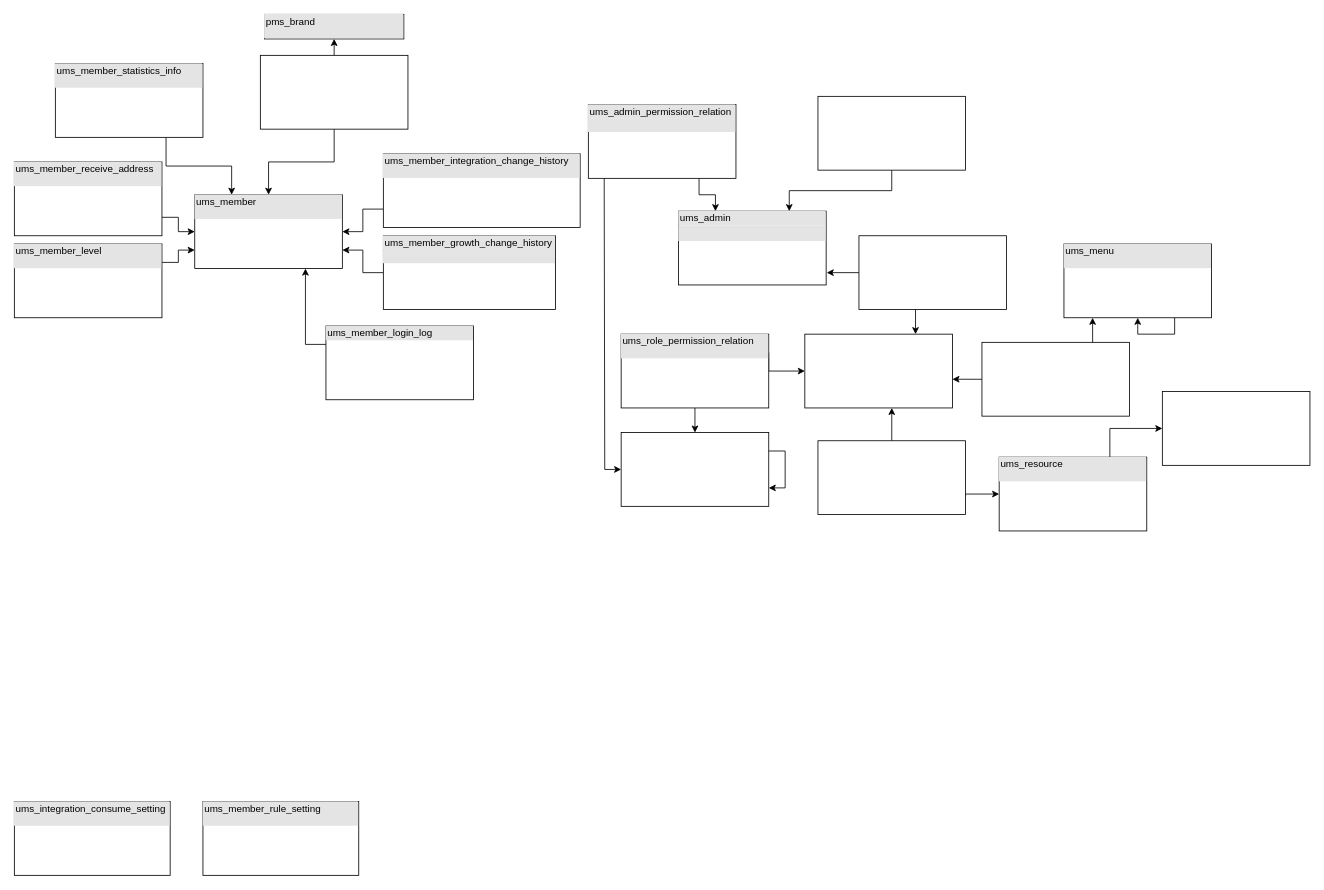
The diagram is 1324 pixels wide and 890 high, and some of its shapes have lost their labels. Each missing label, with the centre of its shape:
"ums_admin_login_log" goes at (891,133).
"ums_admin_role_relation" goes at (932,272).
"ums_member_brand_collection" goes at (334,92).
"ums_permission" goes at (694,469).
"ums_resource_category" goes at (1236,428).
"ums_role" goes at (878,370).
"ums_role_menu_relation" goes at (1055,379).
"ums_role_resource_relation" goes at (891,477).
